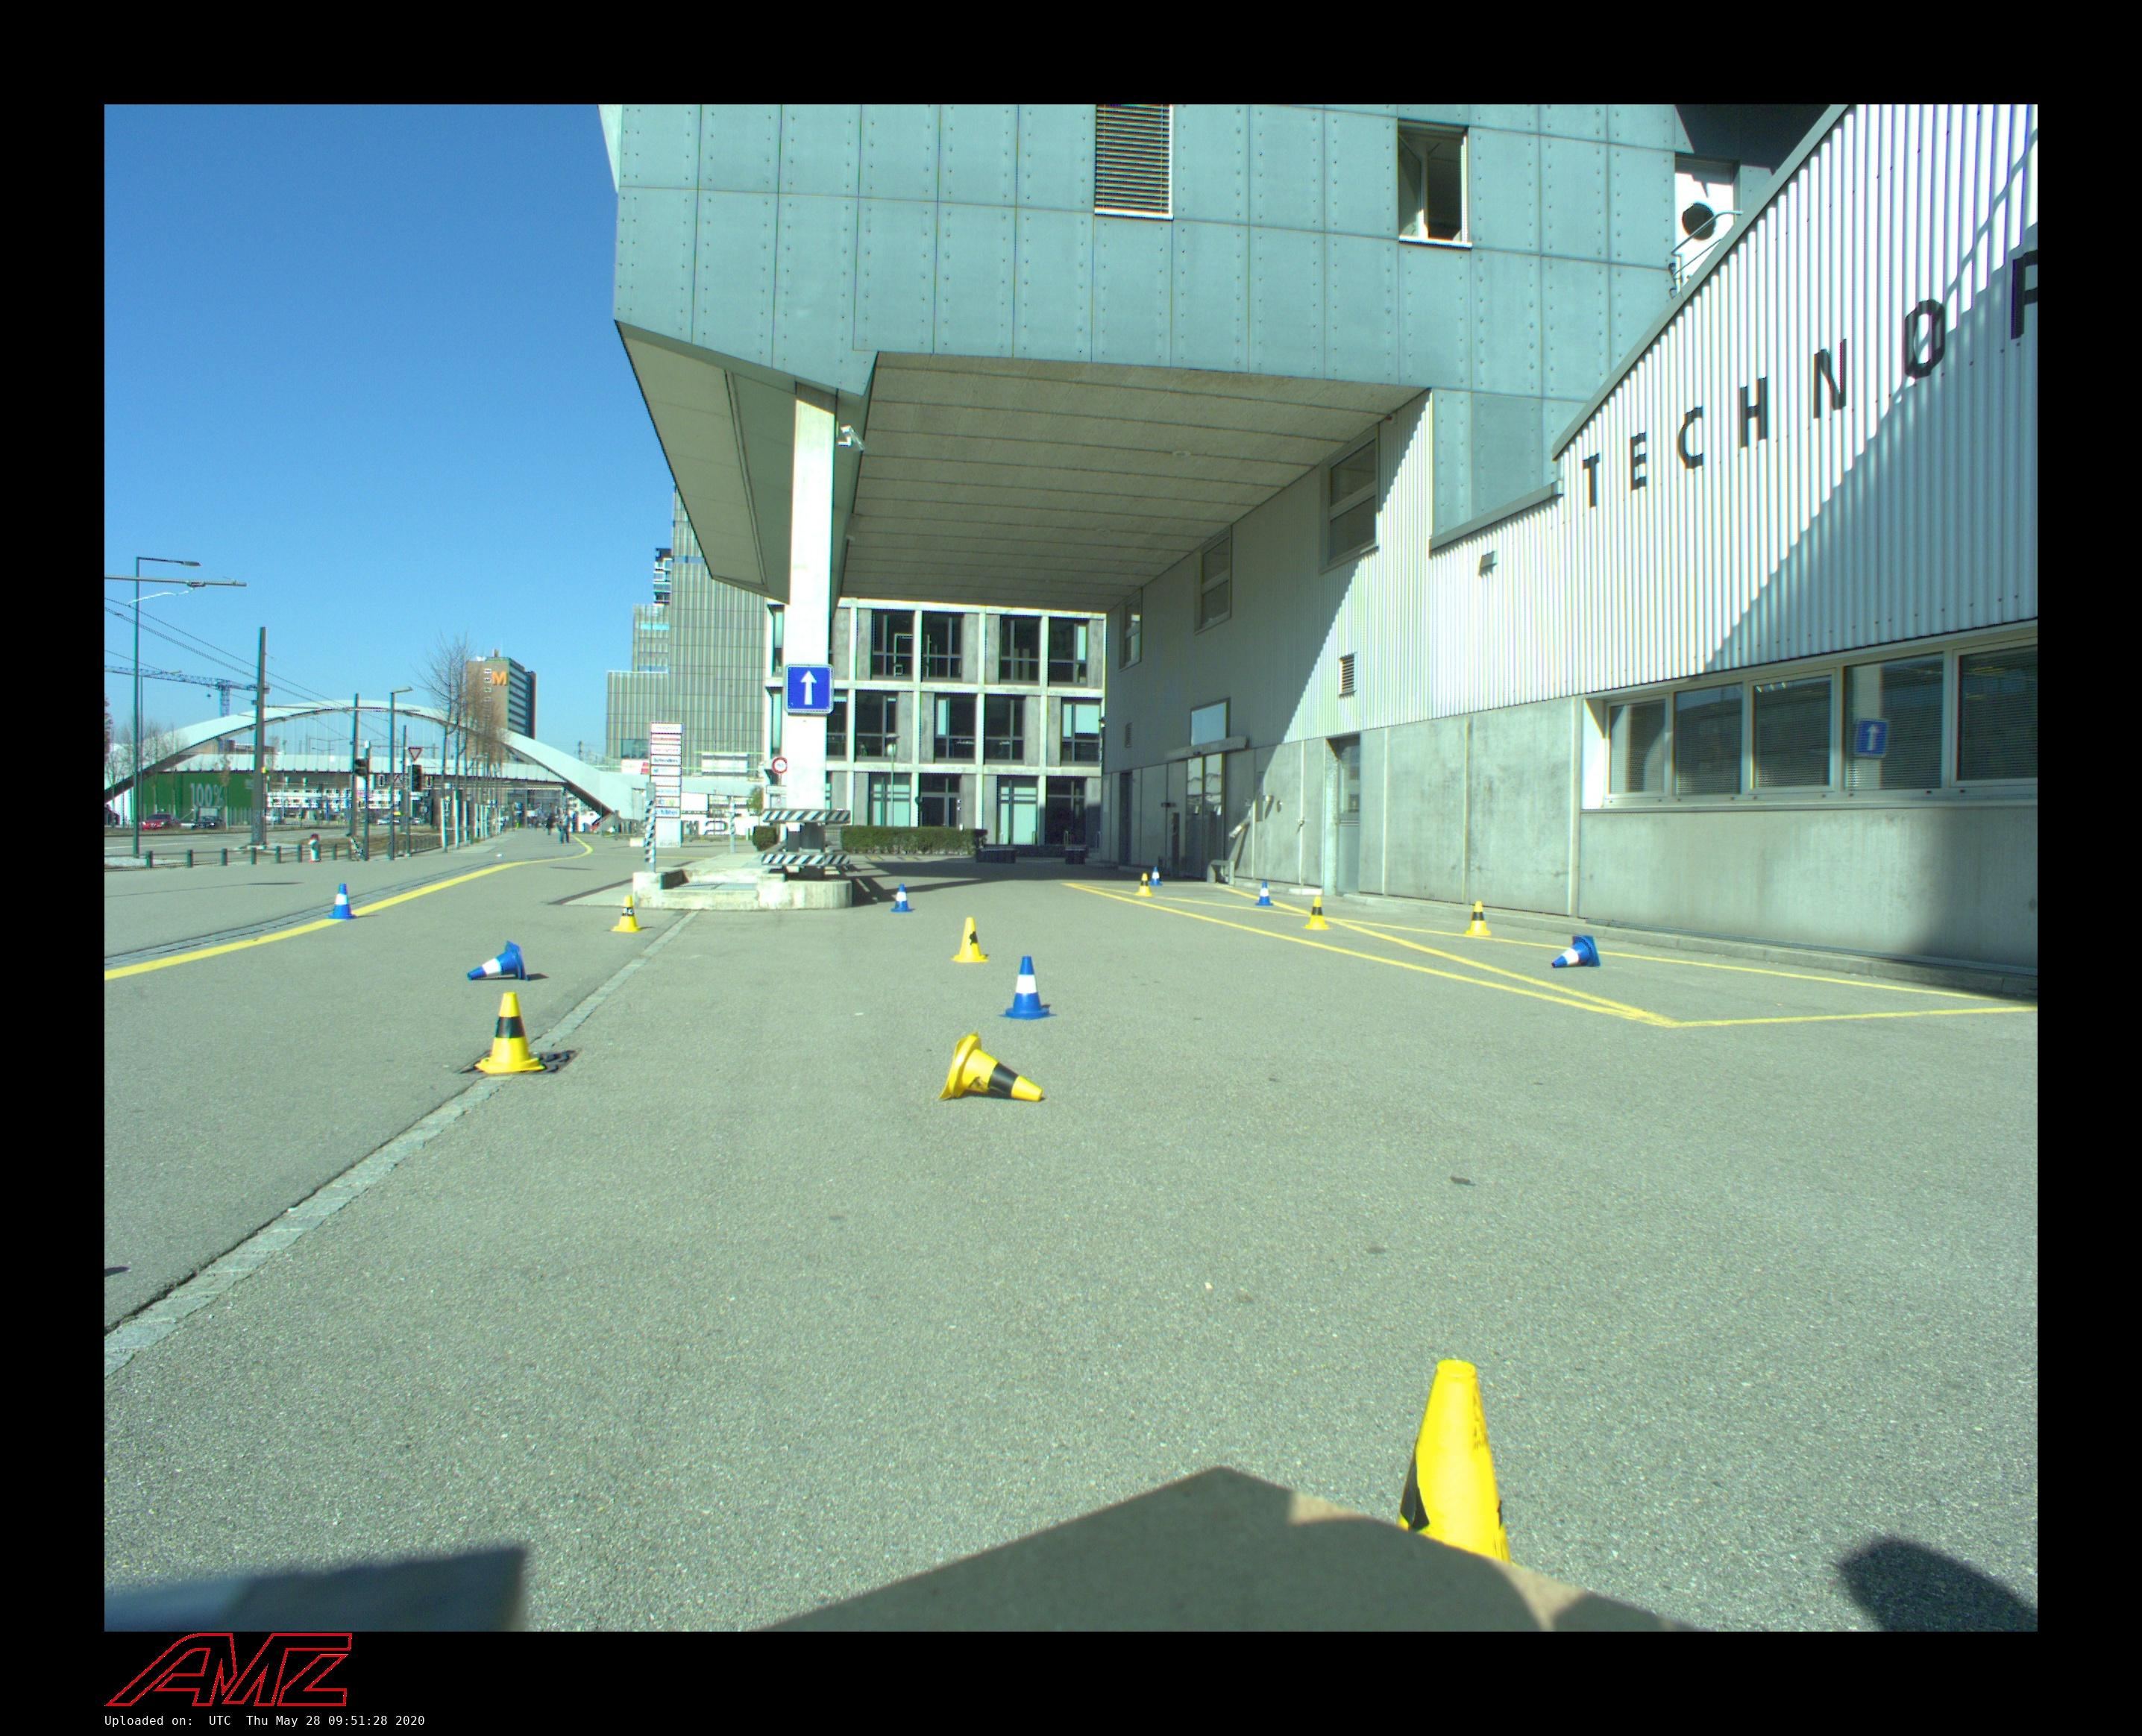blue_cone: (997, 957, 1058, 1020), (468, 941, 530, 981), (1552, 935, 1602, 967), (326, 882, 358, 919), (891, 884, 914, 912), (1254, 882, 1274, 905), (1148, 866, 1162, 887)
yellow_cone: (1396, 1360, 1511, 1564), (937, 1031, 1044, 1102), (475, 992, 546, 1073), (951, 918, 989, 962), (609, 896, 645, 934), (1302, 896, 1332, 930), (1463, 902, 1492, 935), (1136, 873, 1152, 896)
